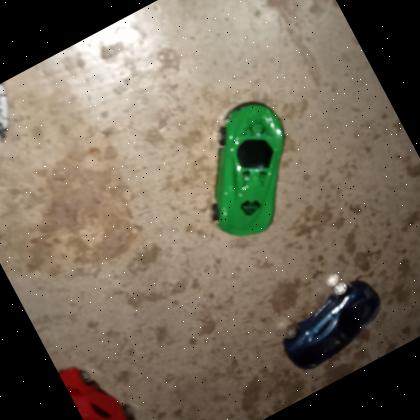Car: (169, 88, 326, 252)
